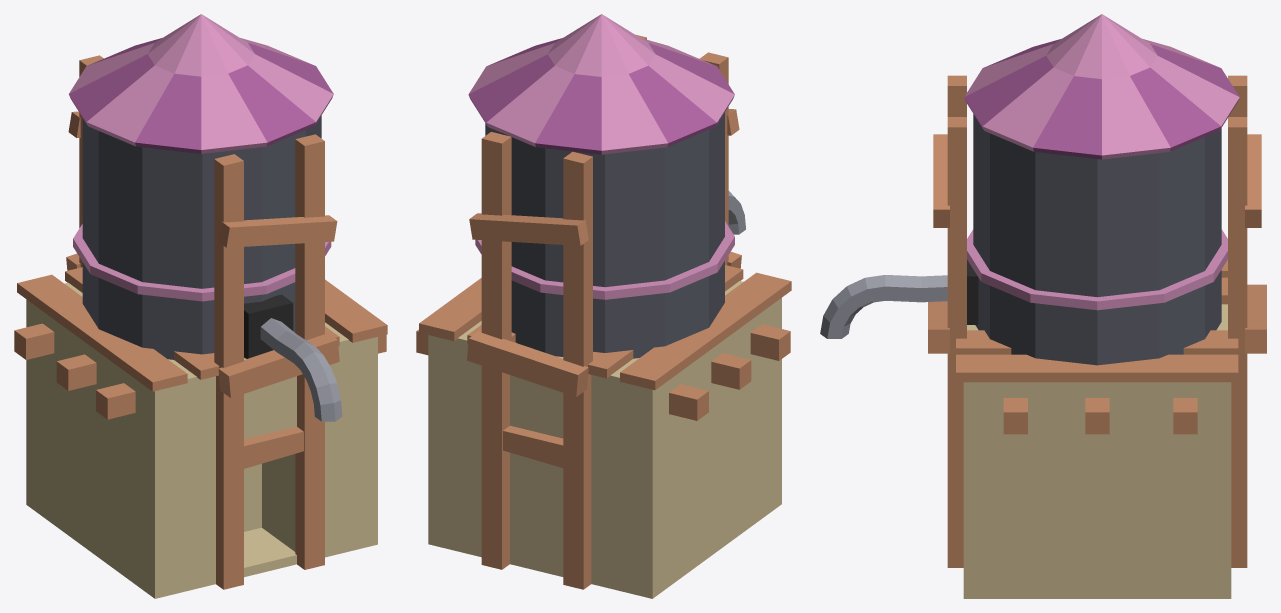
File: Cottage_6.fbx
3 renders of one model, left to right at view 1: azimuth 30°, elevation 25°; view 2: azimuth 150°, elevation 25°; view 3: azimuth 270°, elevation 25°, orthographic. The views are drawn at different scales.
Visible parts, largest first — view 1: Cottage_6; view 2: Cottage_6; view 3: Cottage_6.
Part boxes in pixels (x1,y1,x2,y2): Cottage_6: (14,14,387,598); Cottage_6: (416,14,791,598); Cottage_6: (820,14,1266,598).
Size of the model in its own units: 138 by 184 by 240.
